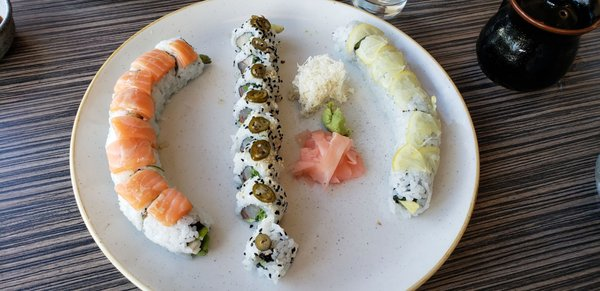pizza: (476, 1, 600, 92)
